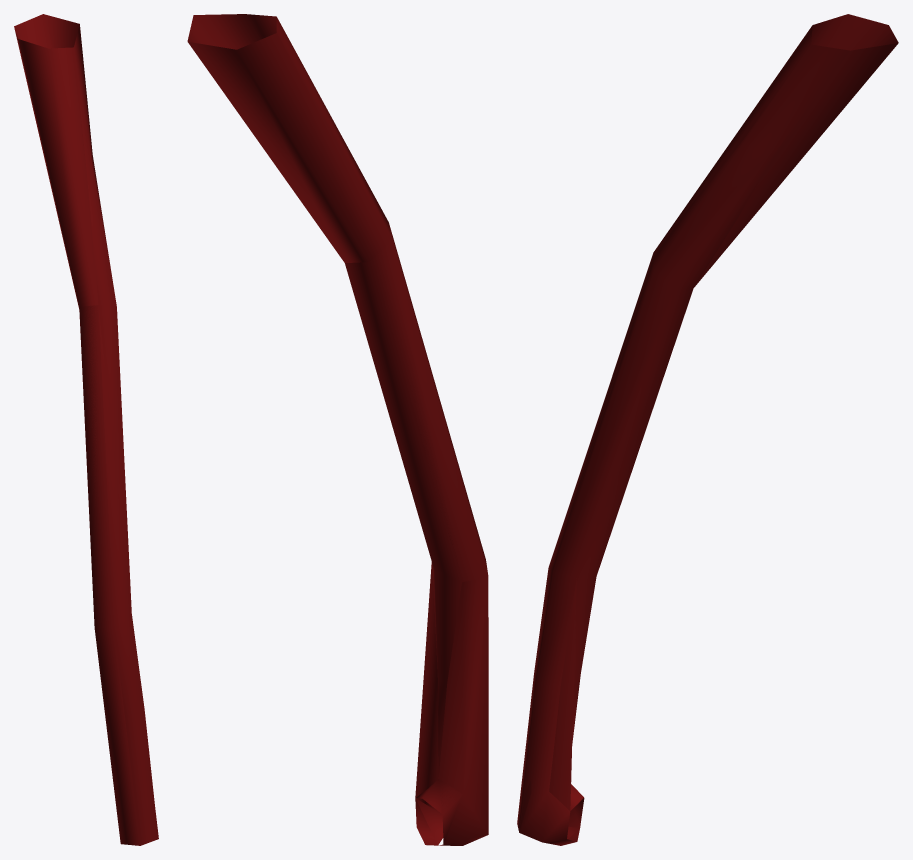
The model's file is L brachialis.fbx.
3 views of the same model, side by side, from view 1: azimuth 30°, elevation 25°; view 2: azimuth 150°, elevation 25°; view 3: azimuth 270°, elevation 25° (orthographic). The views are drawn at different scales.
Visible parts, largest first — view 1: L brachialis, L brachialis low; view 2: L brachialis low, L brachialis; view 3: L brachialis, L brachialis low.
Boxes of the visible parts, x1,y1,x2,y2 form: L brachialis: [14, 14, 158, 845]; L brachialis low: [14, 28, 140, 845]; L brachialis low: [188, 14, 488, 845]; L brachialis: [187, 14, 488, 845]; L brachialis: [517, 14, 898, 845]; L brachialis low: [519, 25, 898, 839].
Bounding box in the file's own units: 1.48 × 9.54 × 3.97.
